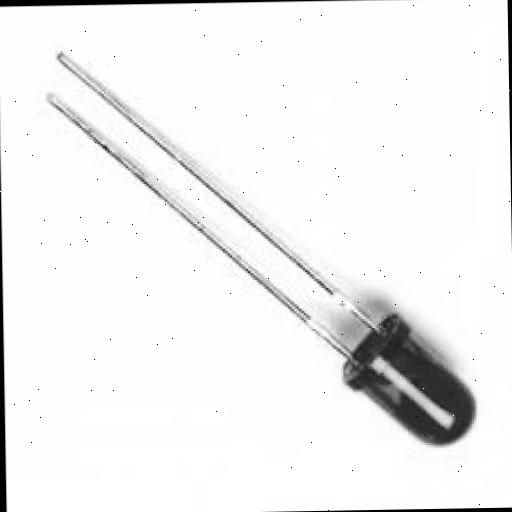LED: (12, 10, 496, 508)
